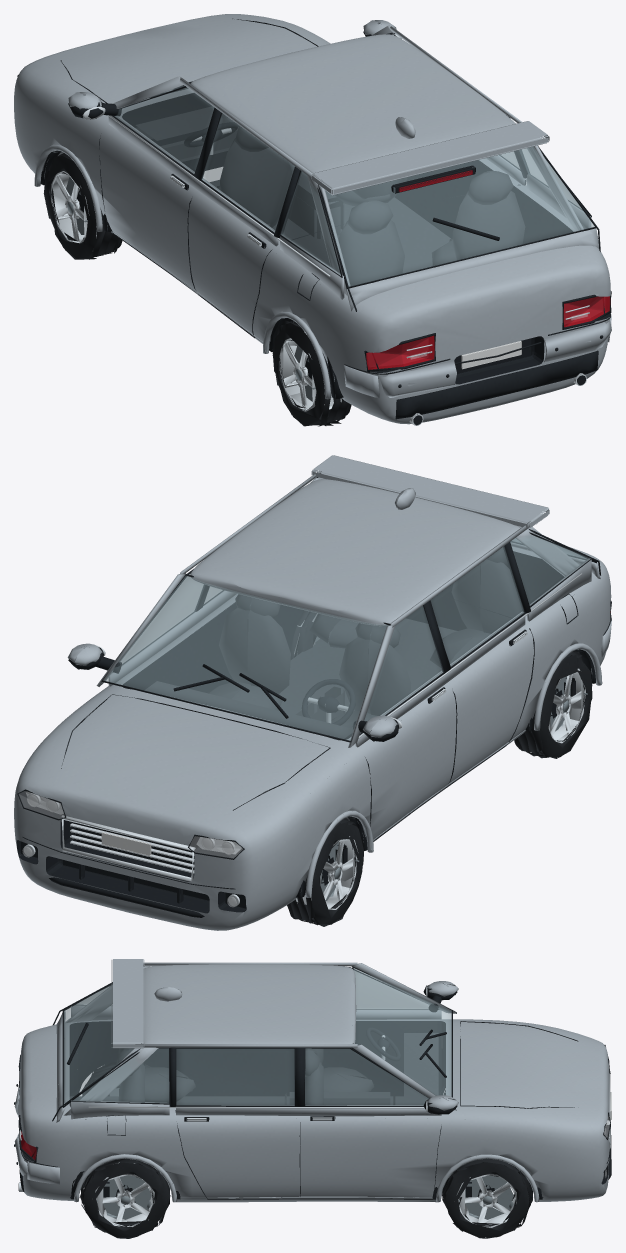
File: hatch.glb
3 renders of one model, top to bottom at view 1: azimuth 30°, elevation 25°; view 2: azimuth 150°, elevation 25°; view 3: azimuth 270°, elevation 25°, orthographic. The views are drawn at different scales.
Parts seen in each view (by area): view 1: innerscene-hatch-selective; view 2: innerscene-hatch-selective; view 3: innerscene-hatch-selective.
Boxes of the visible parts, x1,y1,x2,y2 form: innerscene-hatch-selective: (14, 14, 611, 426); innerscene-hatch-selective: (14, 455, 611, 930); innerscene-hatch-selective: (14, 959, 611, 1238).
Size of the model in its own units: 2.12 by 1.6 by 4.26.
10 materials, 10 textured.
